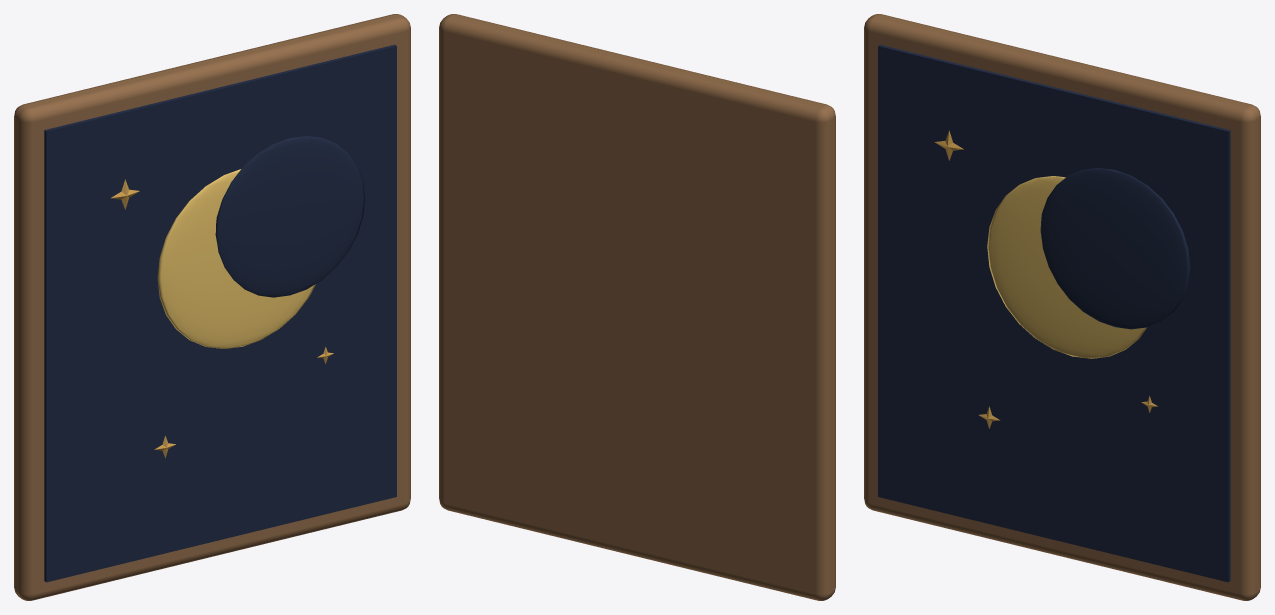
Rendered from art-reflection-moon.glb.
The picture shows the model from 3 angles, left to right: view 1: azimuth 30°, elevation 25°; view 2: azimuth 150°, elevation 25°; view 3: azimuth 330°, elevation 25°; orthographic projection.
Visible parts, largest first — view 1: art-reflection-moon_m_1f2a44, art-reflection-moon_m_8f6a48, art-reflection-moon_m_e9c46a, art-reflection-moon_m_cfa04e; view 2: art-reflection-moon_m_8f6a48; view 3: art-reflection-moon_m_1f2a44, art-reflection-moon_m_8f6a48, art-reflection-moon_m_e9c46a, art-reflection-moon_m_cfa04e.
Part boxes in pixels (left/top/right/bottom): art-reflection-moon_m_1f2a44: left=44, top=44, right=396, bottom=582; art-reflection-moon_m_8f6a48: left=14, top=14, right=410, bottom=600; art-reflection-moon_m_e9c46a: left=157, top=169, right=315, bottom=348; art-reflection-moon_m_cfa04e: left=111, top=179, right=333, bottom=458; art-reflection-moon_m_8f6a48: left=439, top=14, right=835, bottom=600; art-reflection-moon_m_1f2a44: left=878, top=44, right=1230, bottom=582; art-reflection-moon_m_8f6a48: left=864, top=14, right=1260, bottom=600; art-reflection-moon_m_e9c46a: left=987, top=176, right=1146, bottom=358; art-reflection-moon_m_cfa04e: left=934, top=130, right=1157, bottom=428.
Size of the model in its own units: 0.78 by 0.94 by 0.0779.
